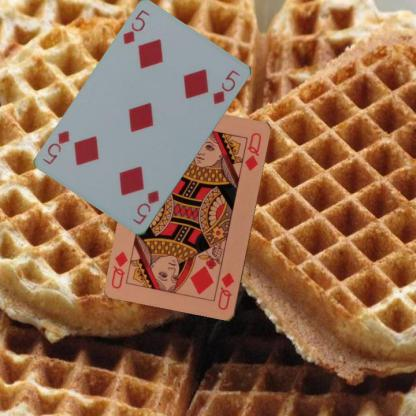5d: (120, 8, 151, 46), (130, 188, 160, 226)
Qd: (215, 270, 236, 311)
